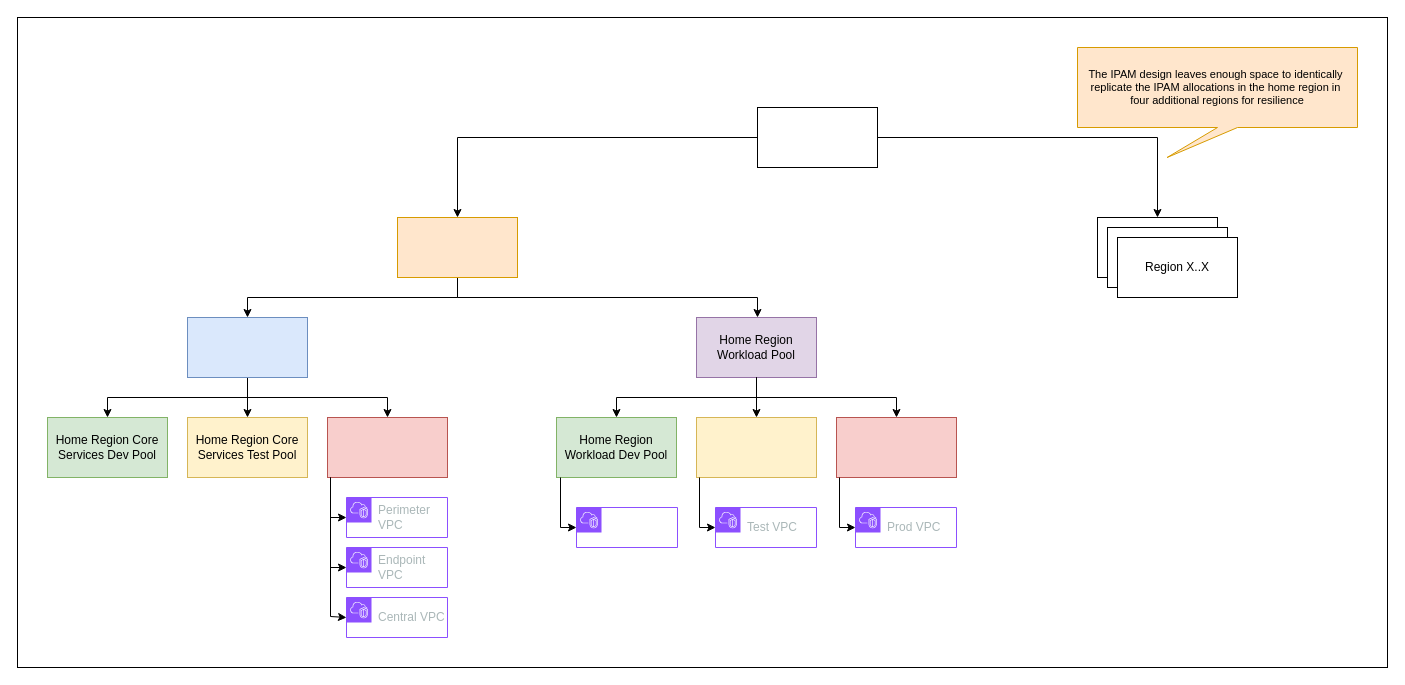
Some shapes in this 1405 by 685 pixel diagram are drawn without their labels. The shapes that lost their labels are listed below. From the top down, each one's centre as x and y in pixels, then its label:
the point at 817,137: Accelerator Supernet Pool
the point at 457,247: Home Region Pool
the point at 247,347: Home Region Core Services Pool
the point at 387,447: Home Region Core Services Prod Pool
the point at 756,447: Home Region Workload Test Pool
the point at 896,447: Home Region Workload Prod Pool
the point at 627,527: Dev VPC
